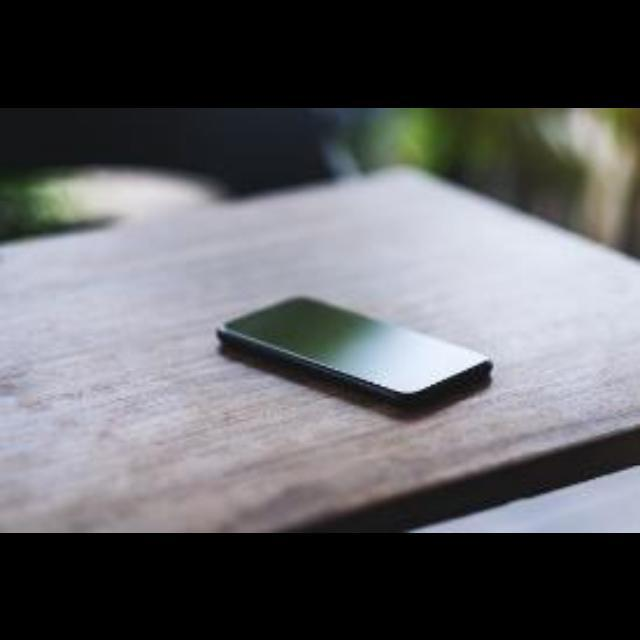phone: (203, 264, 513, 440)
